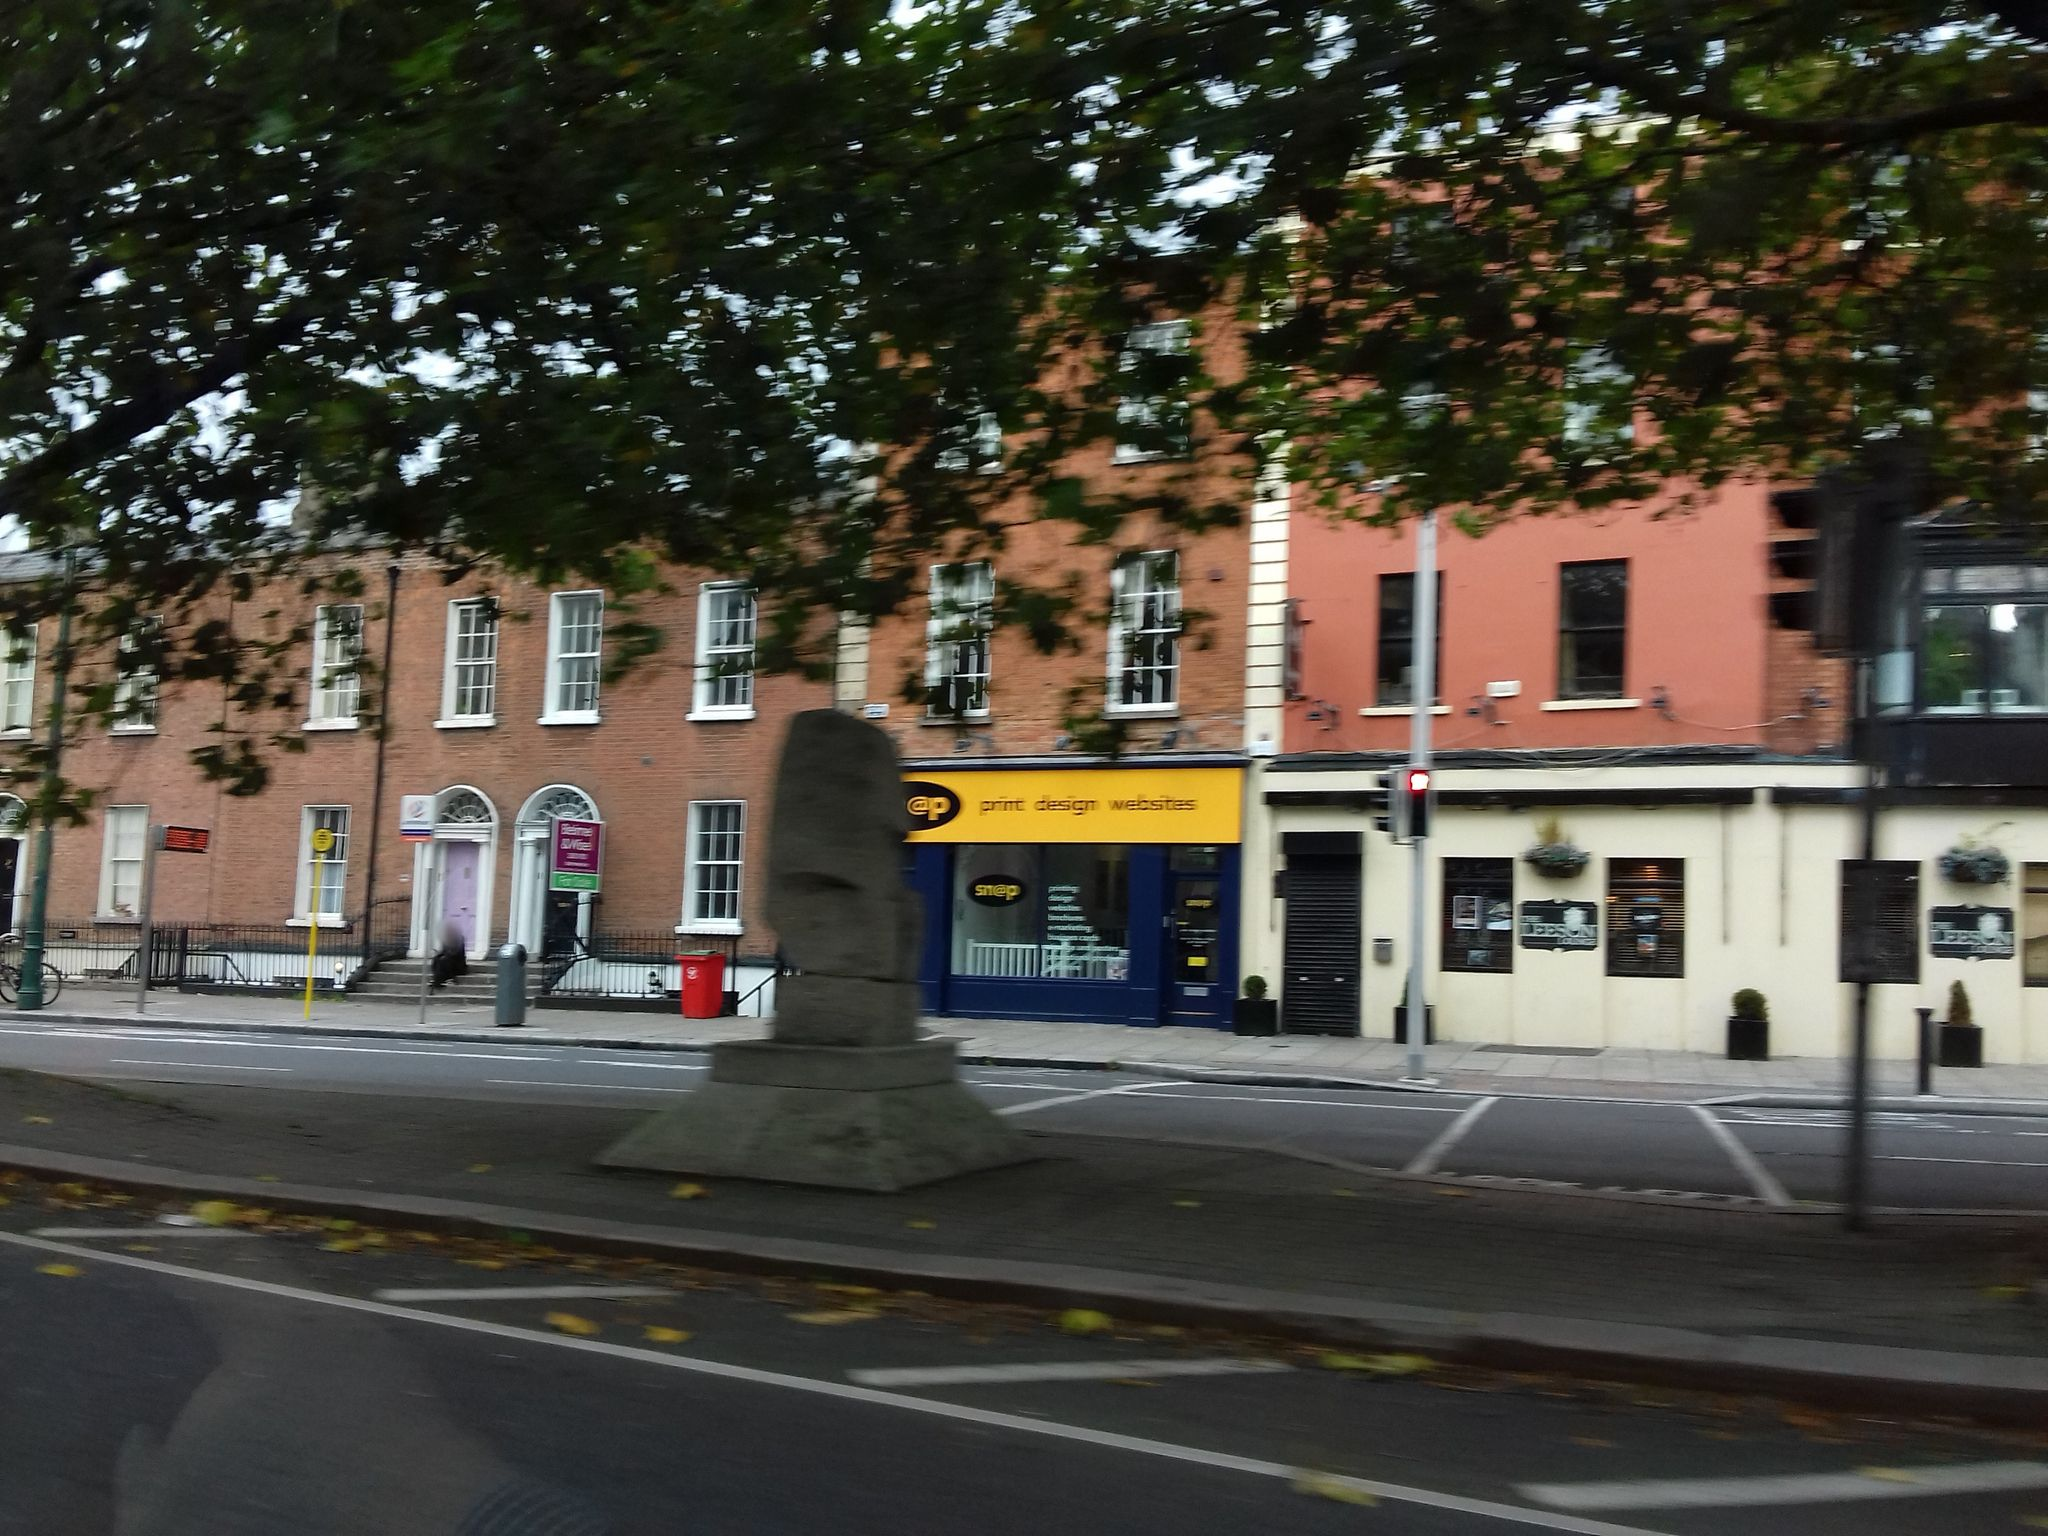property sign: (531, 792, 631, 912)
